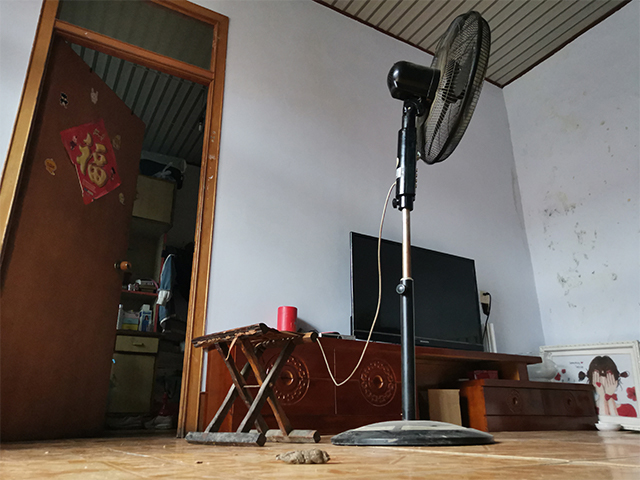cabinet: (203, 332, 603, 437)
feces: (272, 446, 333, 466)
stool: (183, 320, 323, 449)
